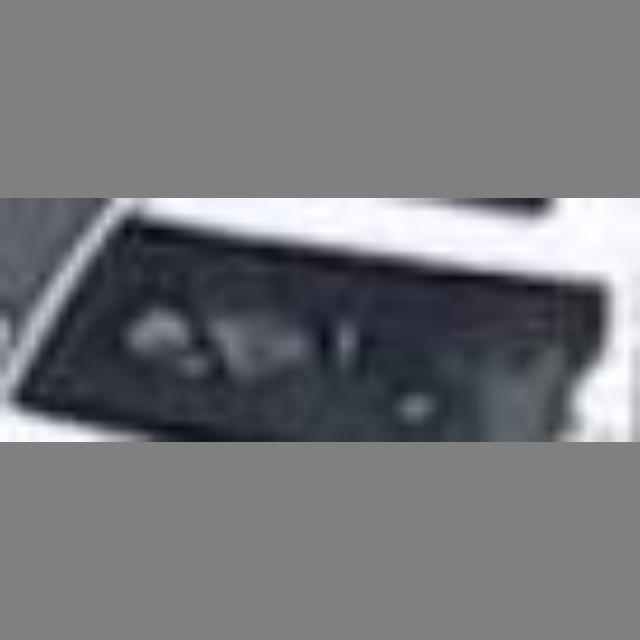pakai: (122, 273, 329, 386)
